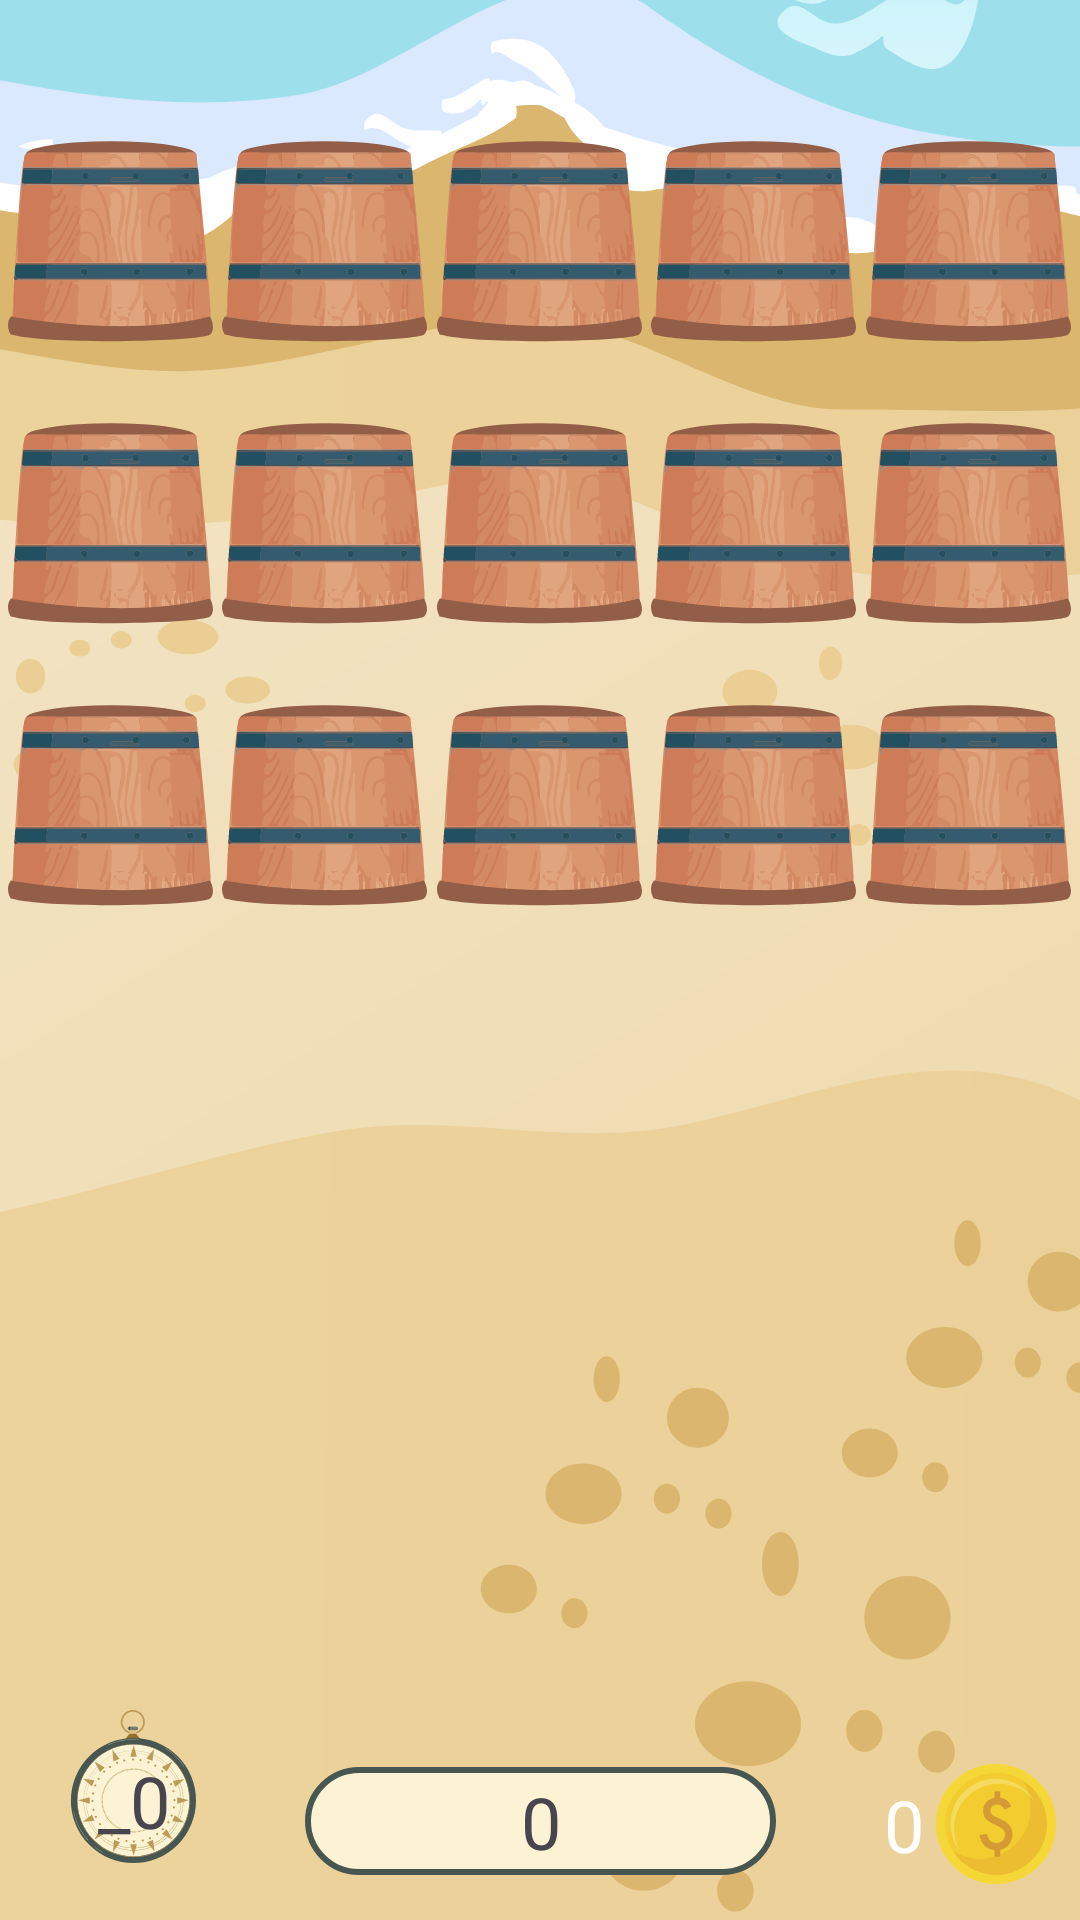

Icons on this 1080*1920 Android screen, each with its box as box=[x1, y1, x2, y2]:
coin: box=[936, 1764, 1056, 1884]
watch: box=[71, 1710, 196, 1863]
